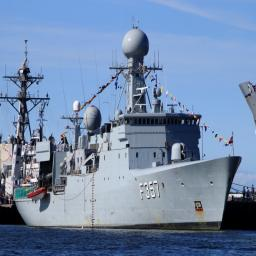Fragata: (11, 21, 242, 234)
